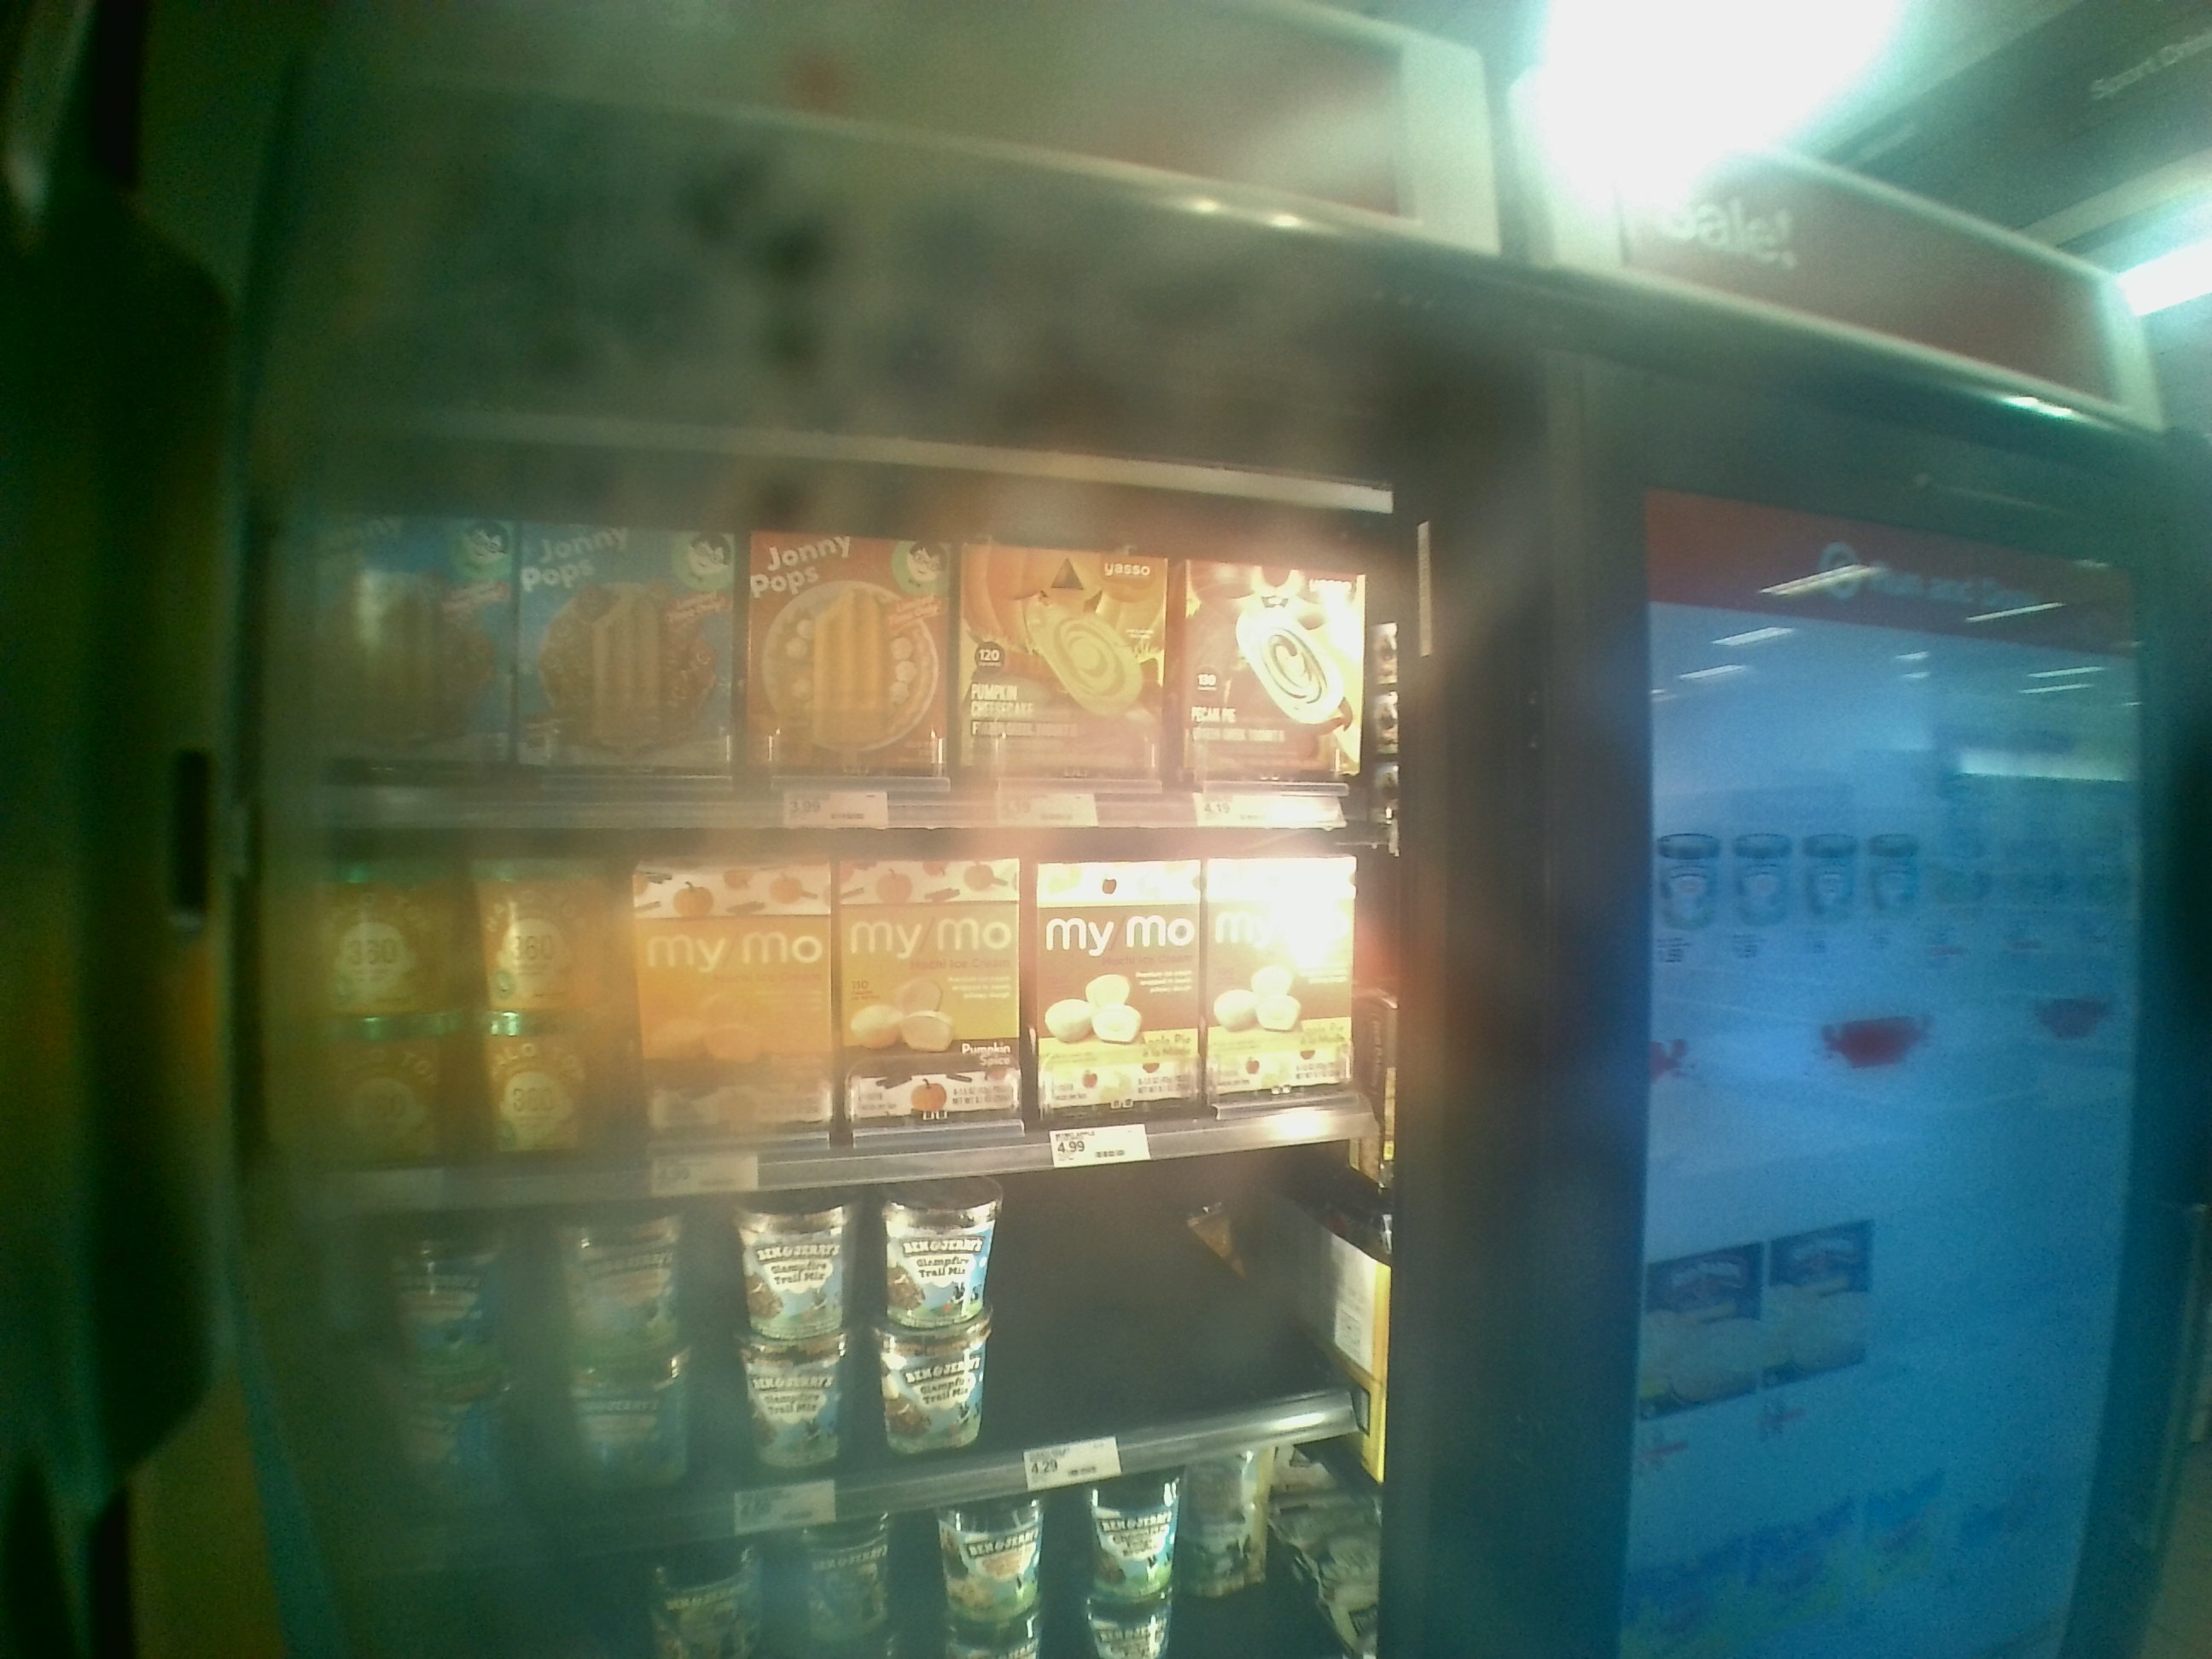shelf: (254, 460, 1374, 828), (256, 802, 1378, 1134), (247, 1175, 1374, 1446)
